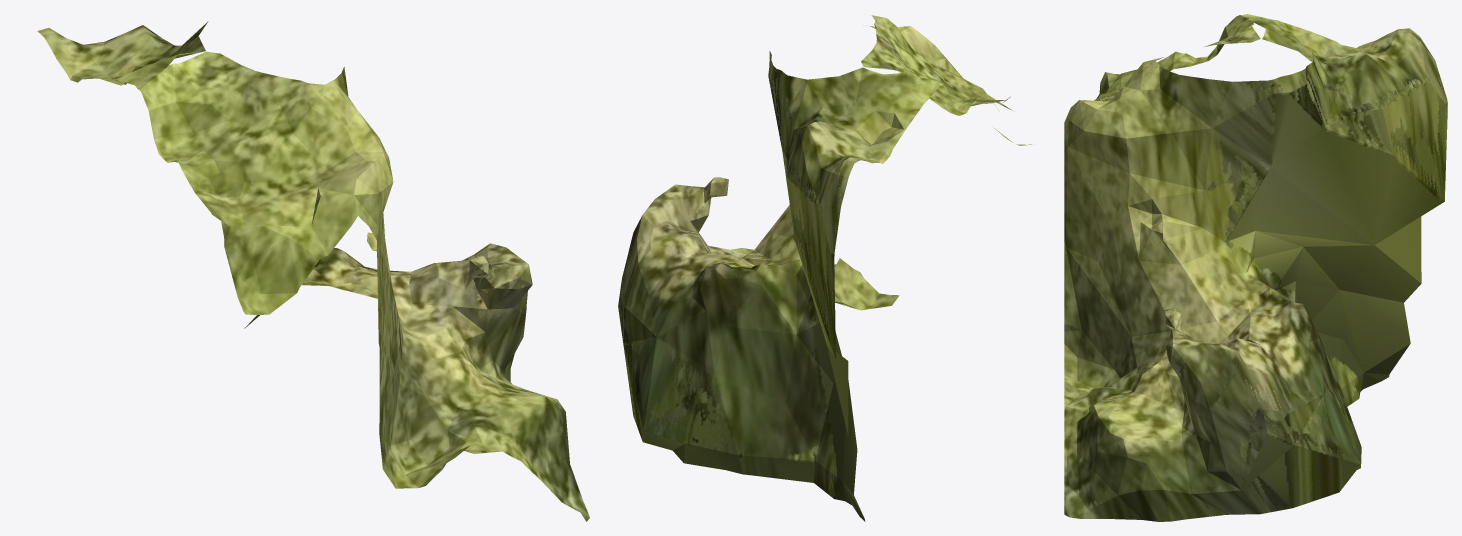
3 views of the same model, side by side, from view 1: azimuth 30°, elevation 25°; view 2: azimuth 150°, elevation 25°; view 3: azimuth 270°, elevation 25° (orthographic). The views are drawn at different scales.
Bounding box in the file's own units: 2.55 × 2.95 × 2.77.
4 materials, 4 textured.
